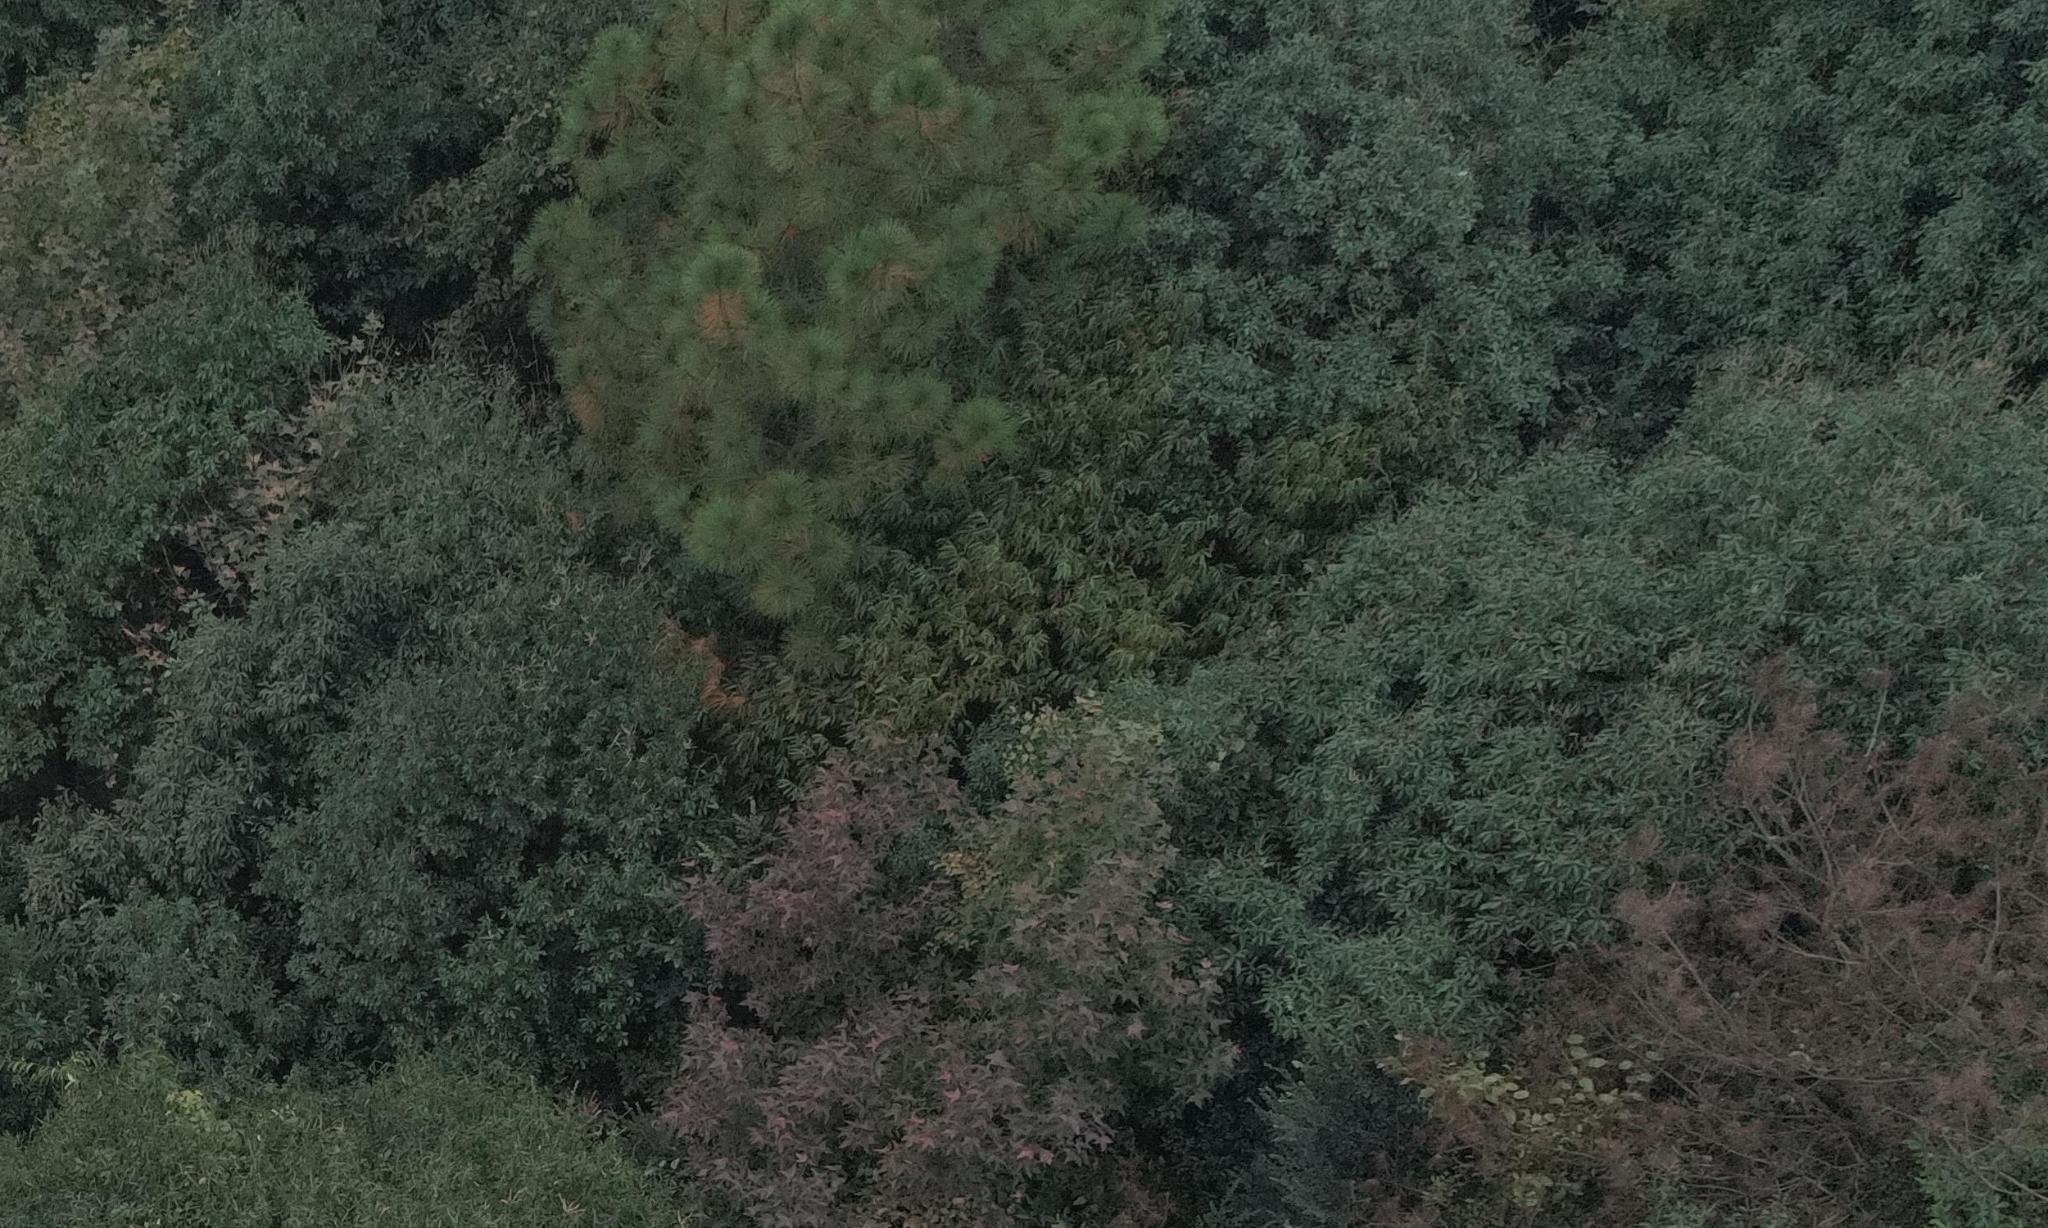heavy: (1390, 617, 2016, 1200)
light: (509, 22, 1085, 614)
